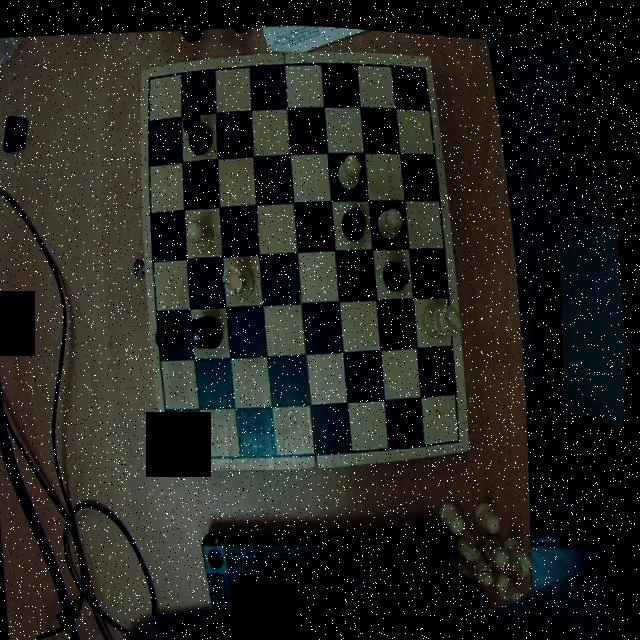chess-table-corners: (166, 436, 191, 465), (448, 420, 472, 446), (414, 48, 434, 79), (142, 62, 164, 86)
